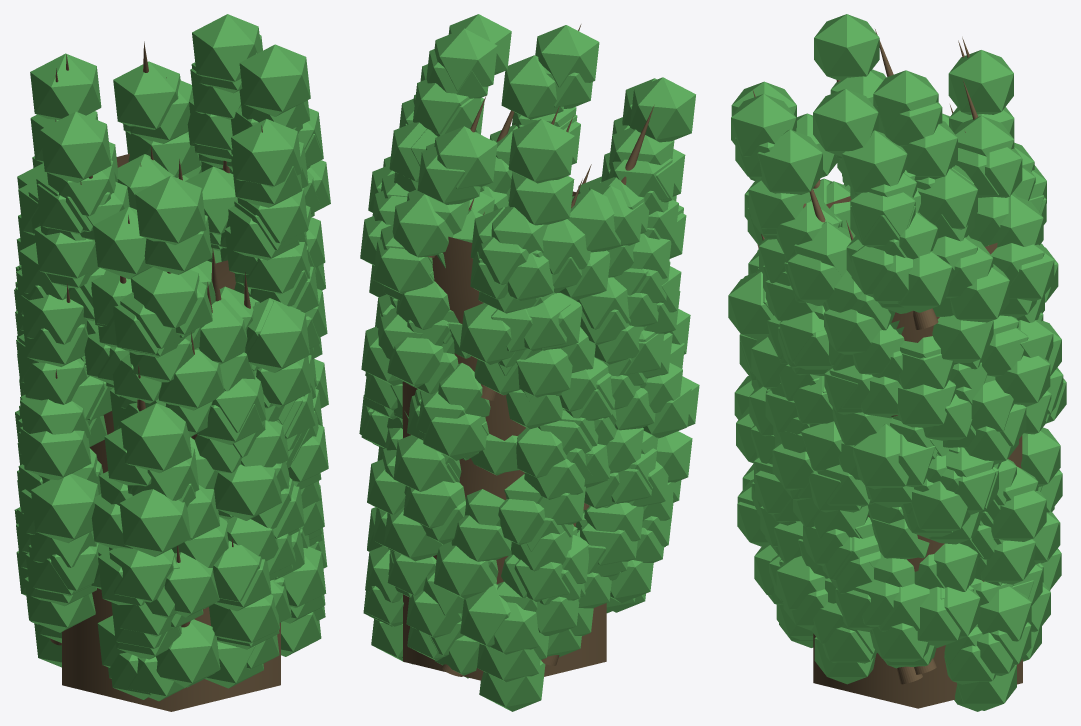
The model's file is tree_var_5436.glb.
3 views of the same model, side by side, from view 1: azimuth 30°, elevation 25°; view 2: azimuth 150°, elevation 25°; view 3: azimuth 270°, elevation 25° (orthographic). The views are drawn at different scales.
Parts seen in each view (by area): view 1: tree_var_5436; view 2: tree_var_5436; view 3: tree_var_5436.
Boxes of the visible parts, <box> form: tree_var_5436: <box>14,14,330,711</box>; tree_var_5436: <box>359,14,699,711</box>; tree_var_5436: <box>728,14,1066,711</box>.
Size of the model in its own units: 2.86 by 5.85 by 2.79.
